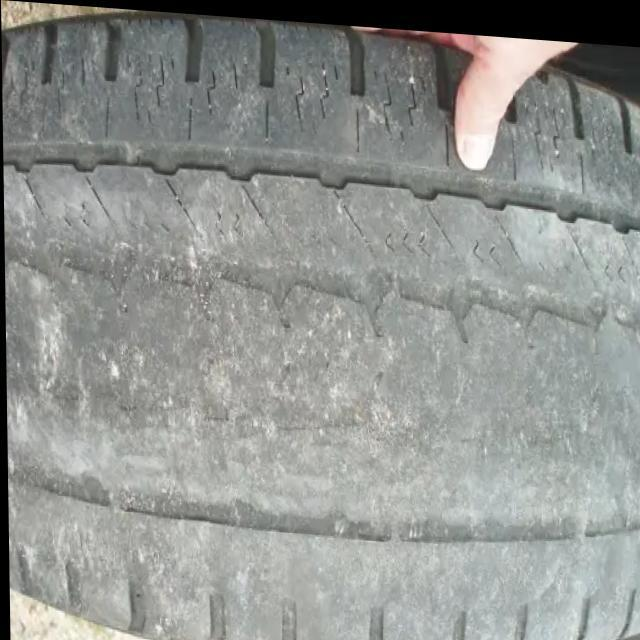Flat spots: (7, 168, 639, 546)
